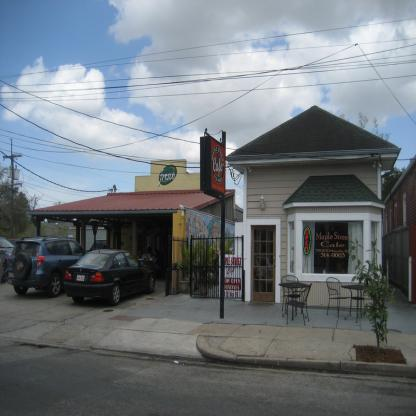car: (56, 248, 150, 308), (3, 233, 88, 298), (0, 236, 18, 278)
